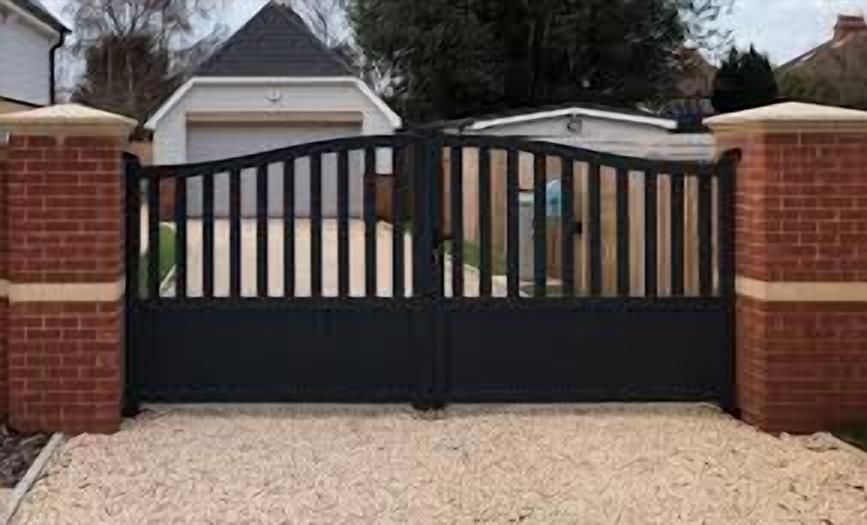Building: (138, 0, 401, 216), (408, 101, 678, 250)
Door: (188, 123, 364, 217)
Gate: (120, 128, 744, 417)
